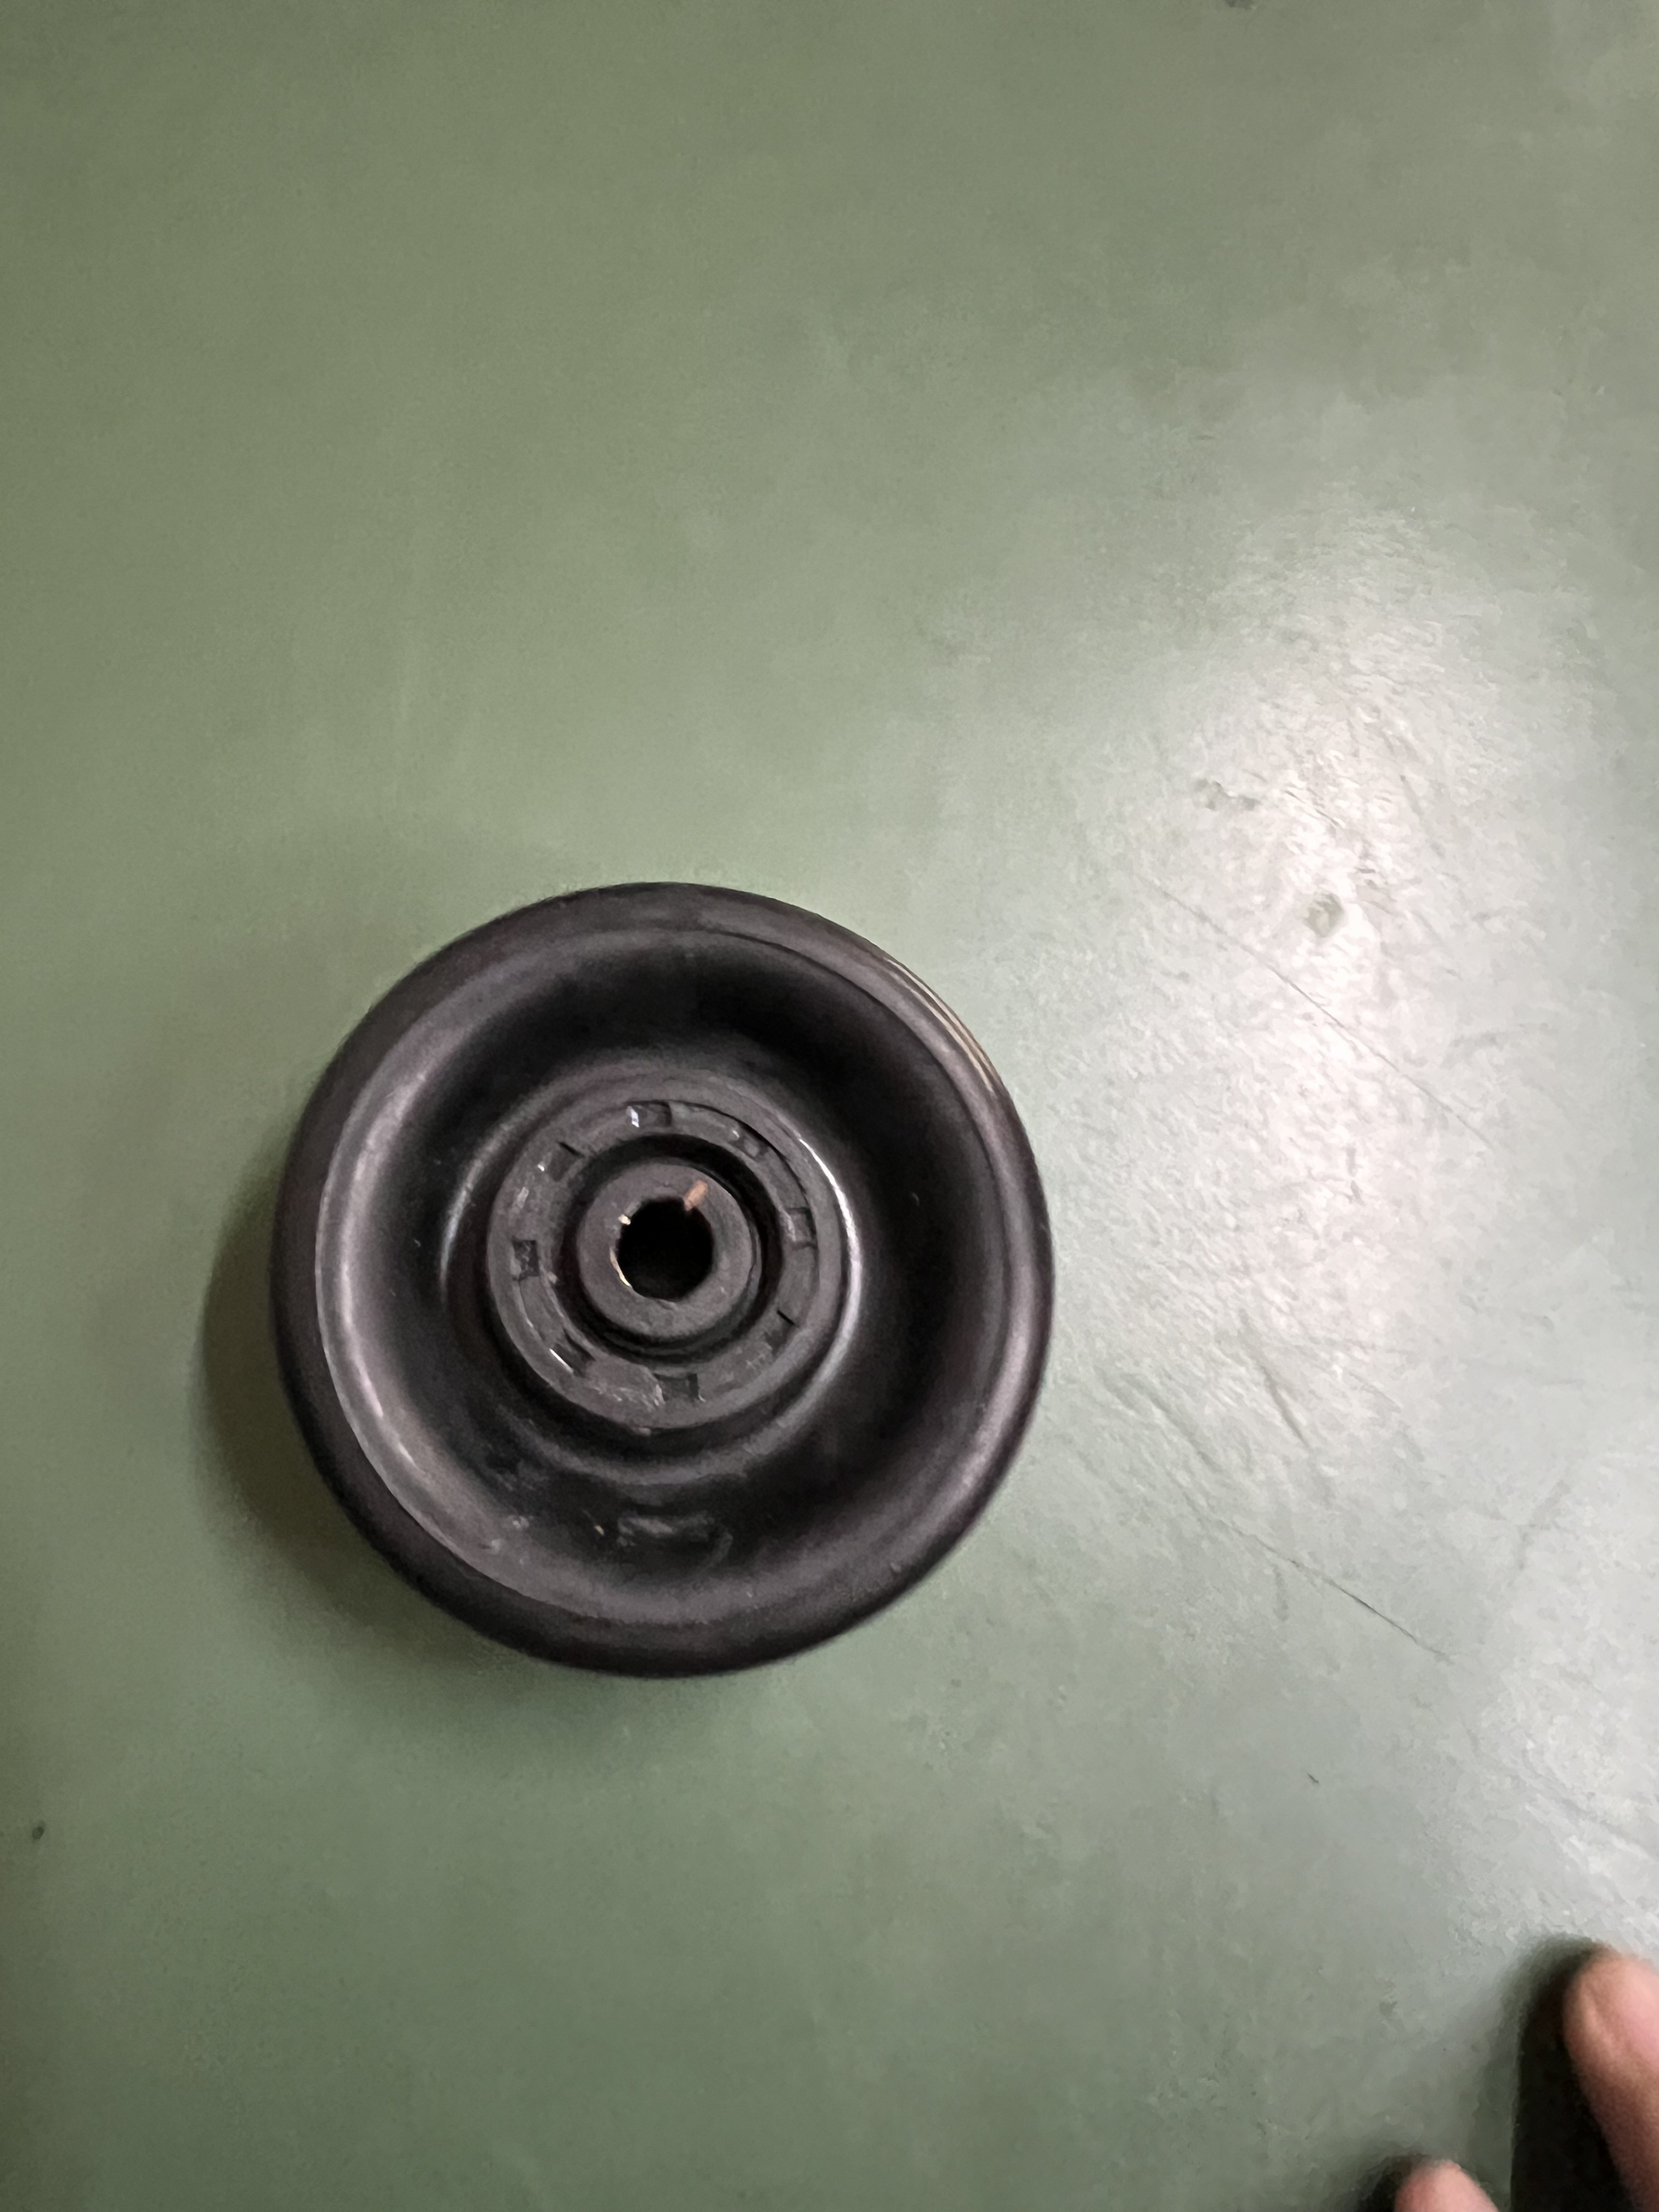lever: (267, 878, 1060, 1683)
